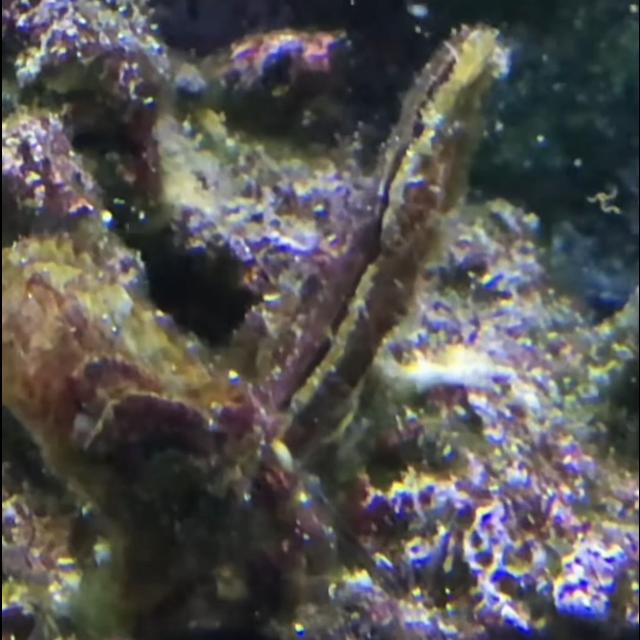Oyster-Closed: (227, 27, 509, 467)
Oyster-Indeterminate: (1, 236, 305, 596)
